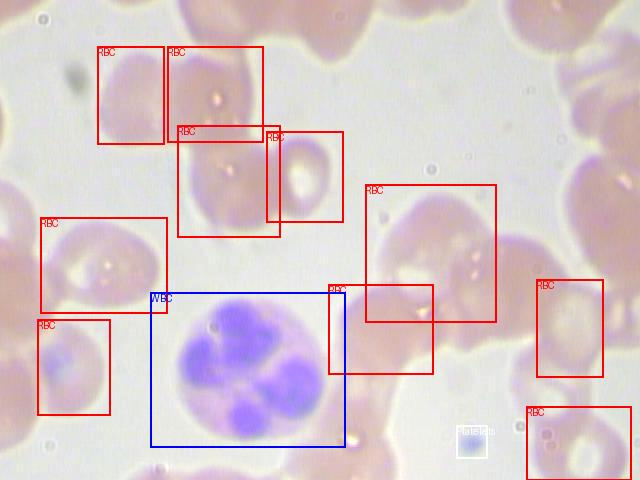Platelets: (456, 425, 487, 458)
RBC: (365, 184, 496, 322), (40, 217, 167, 313), (177, 125, 280, 237), (328, 284, 433, 374), (167, 46, 263, 142), (526, 406, 631, 480), (37, 319, 110, 415), (266, 131, 343, 222), (536, 279, 603, 377), (97, 46, 164, 144)
WBC: (150, 292, 345, 447)
